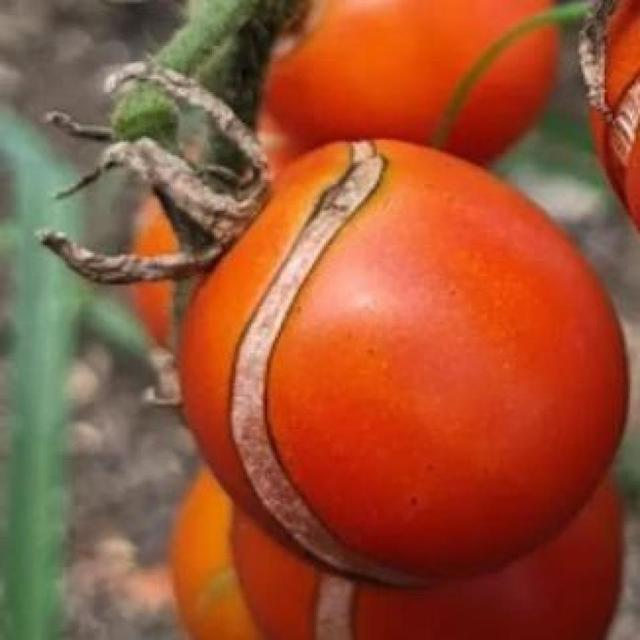Cracking Fruit: (20, 57, 415, 397)
